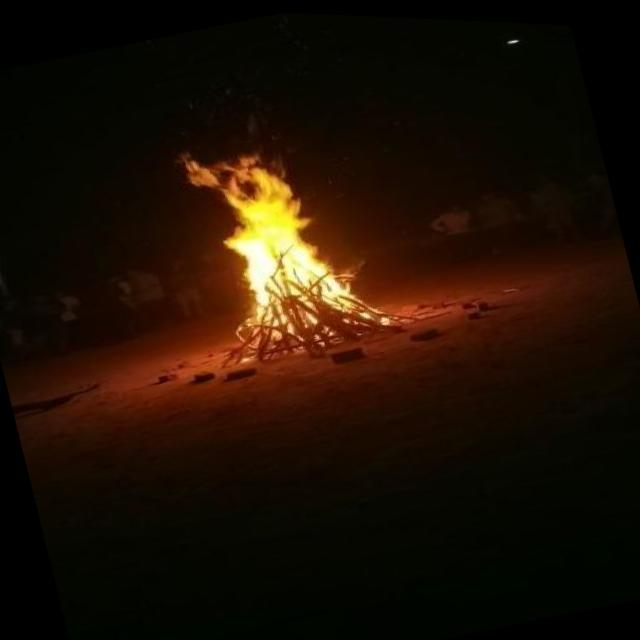fire: (152, 105, 382, 371)
